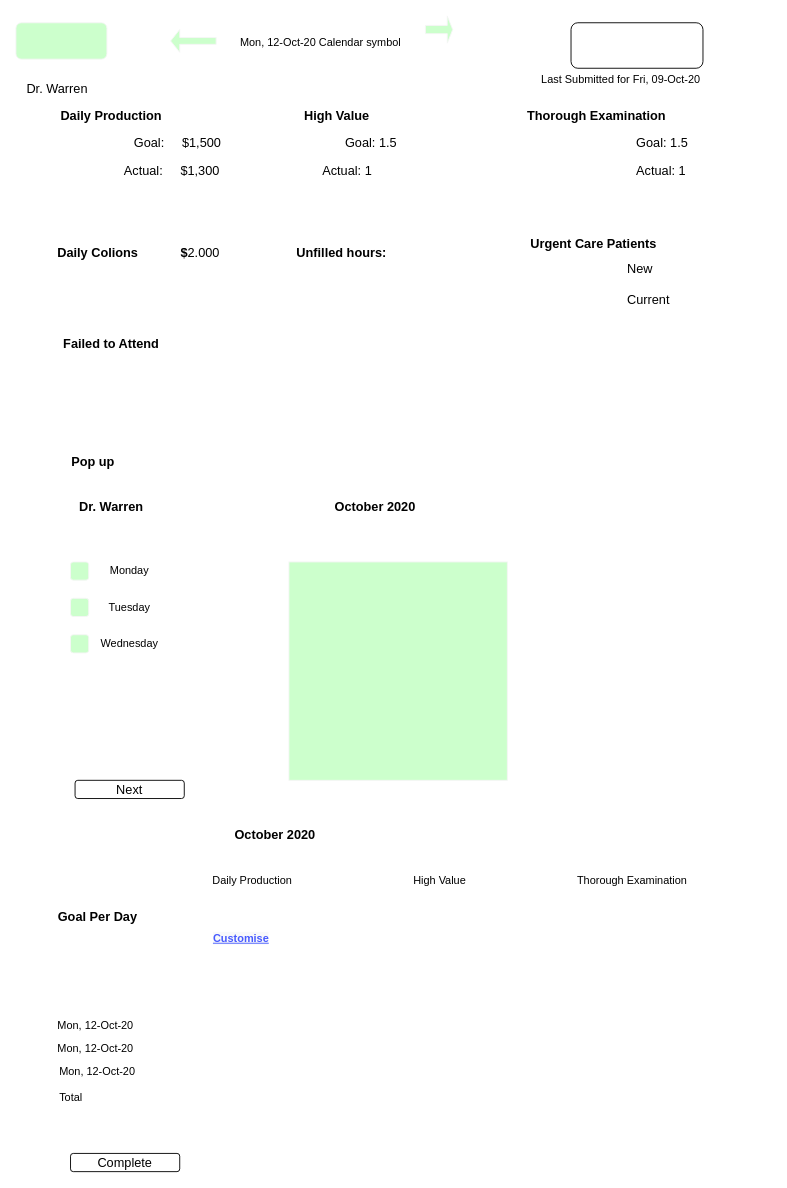
Some shapes in this 787 by 1188 pixel diagram are drawn without their labels. Here are the shapes that lost their labels. From the top down, the centre of each, then its label:
At (x=61, y=40): "Set Monthly Goal for October".
At (x=636, y=45): "Incomplete Entries (3)".
